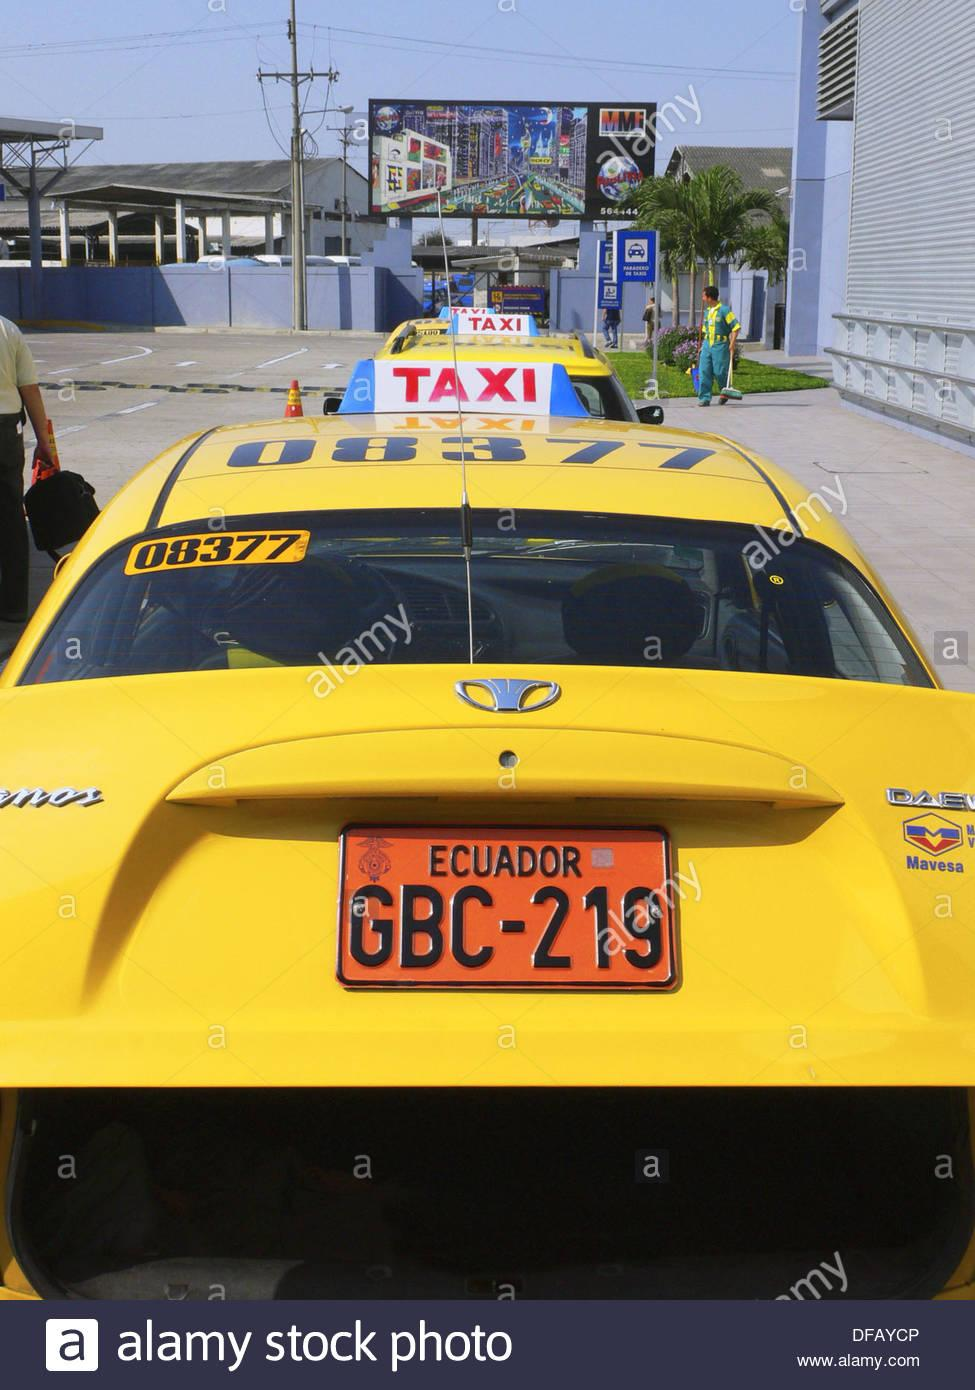taxi: (11, 301, 975, 1291)
